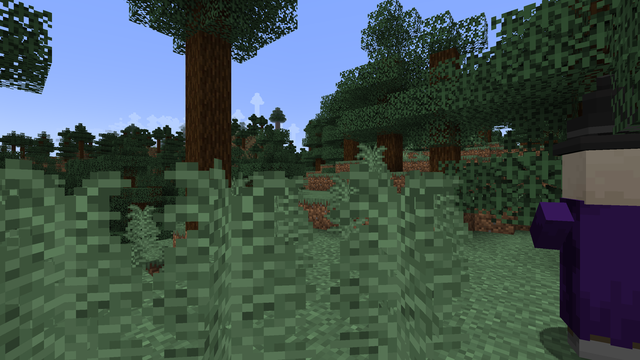sorcieres: (559, 140, 636, 359)
